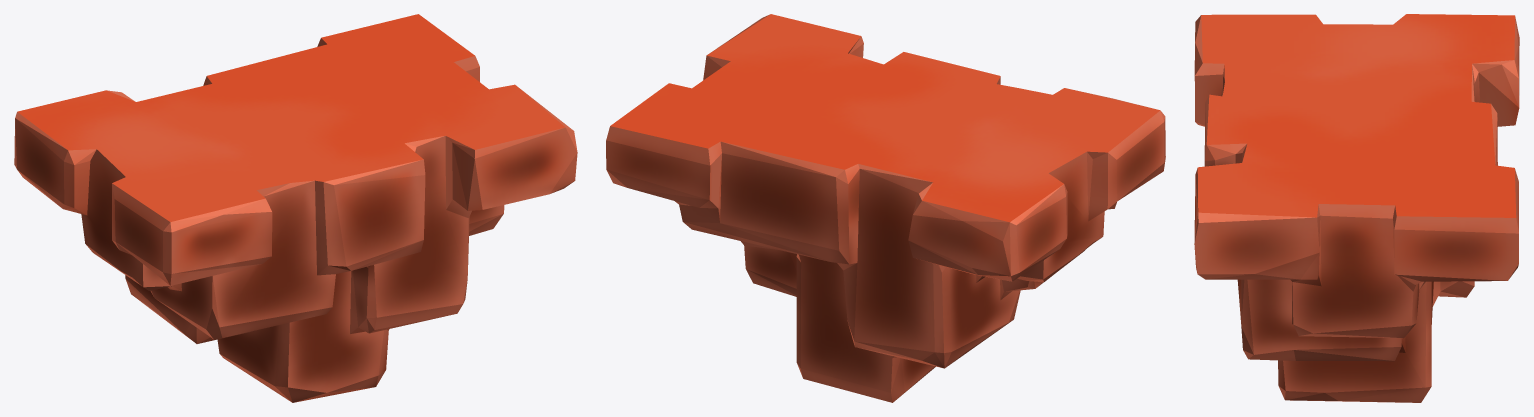
The model's file is Platform_2_3.fbx.
The picture shows the model from 3 angles, left to right: view 1: azimuth 30°, elevation 25°; view 2: azimuth 150°, elevation 25°; view 3: azimuth 270°, elevation 25°; orthographic projection. The views are drawn at different scales.
Parts seen in each view (by area): view 1: Cube.042; view 2: Cube.042; view 3: Cube.042.
Part boxes in pixels (<box>): Cube.042: <box>14,14,577,402</box>; Cube.042: <box>606,14,1165,402</box>; Cube.042: <box>1194,14,1519,402</box>.
Bounding box in the file's own units: 300 × 178 × 200.
